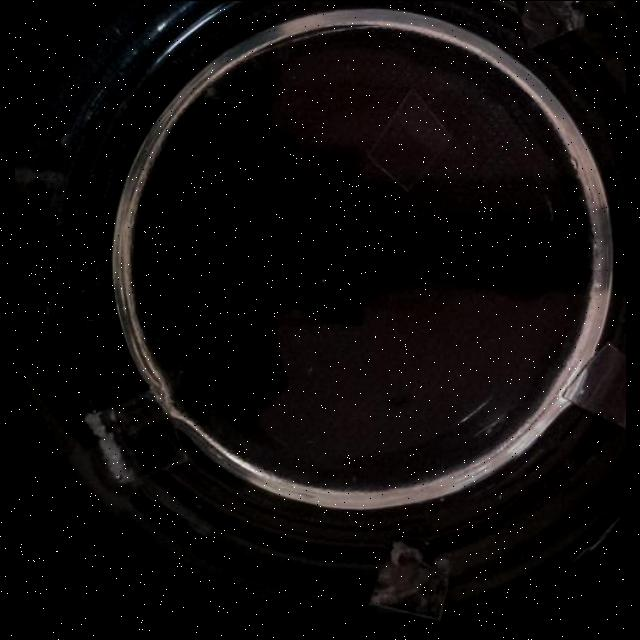Film: (363, 85, 457, 199), (85, 391, 189, 483), (368, 536, 450, 620), (555, 345, 625, 429), (509, 0, 608, 48)
